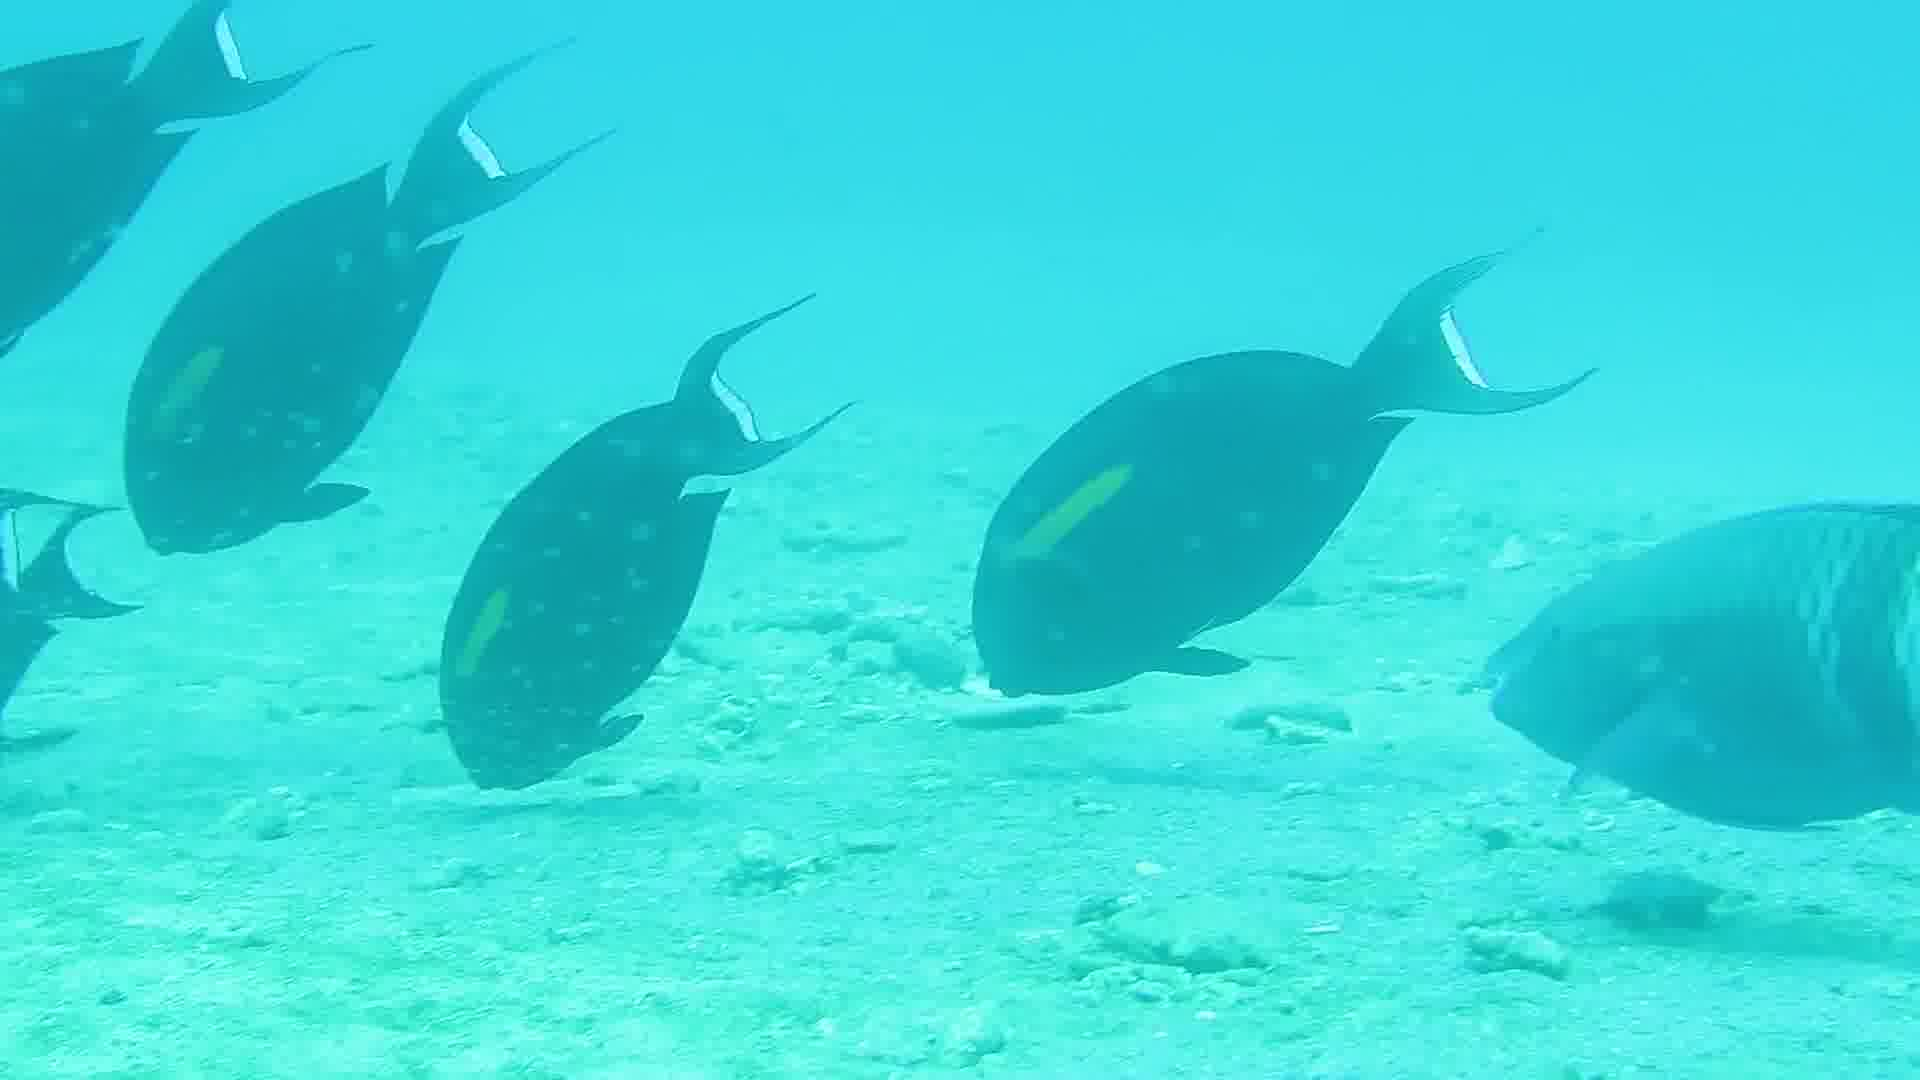Acanthurus olivaceus: (1389, 402, 1920, 928), (963, 225, 1493, 752), (113, 73, 538, 568), (430, 313, 855, 808), (1, 21, 265, 301)
